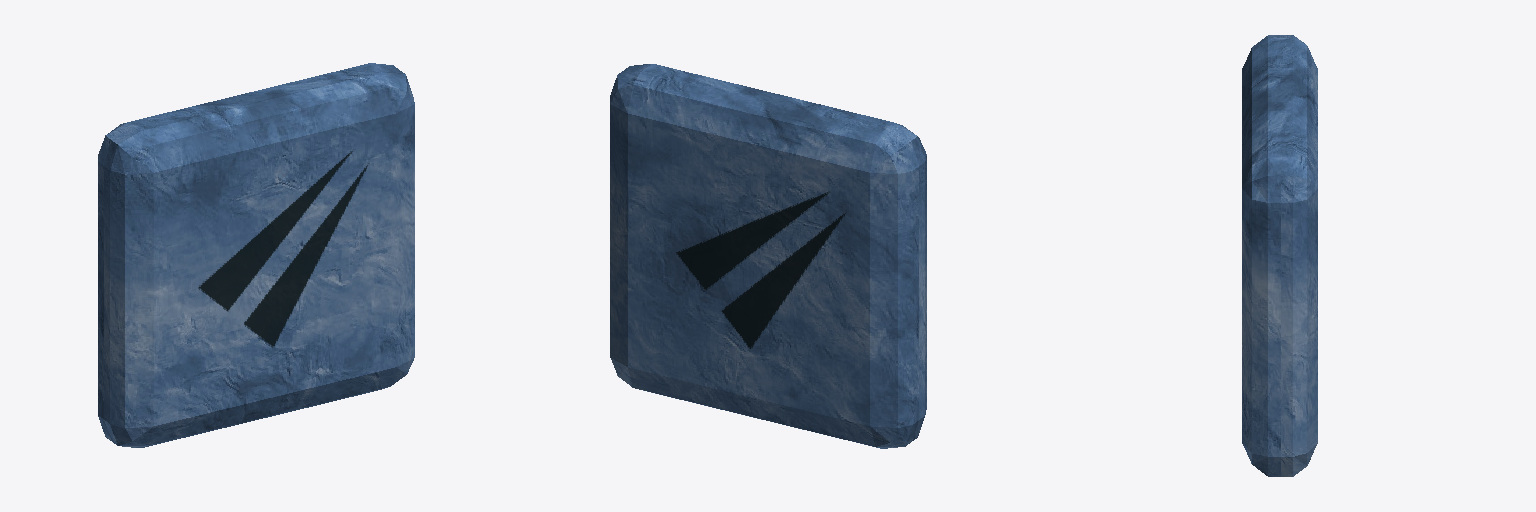
3 views of the same model, side by side, from view 1: azimuth 30°, elevation 25°; view 2: azimuth 150°, elevation 25°; view 3: azimuth 270°, elevation 25° (orthographic).
Visible parts, largest first — view 1: Cube; view 2: Cube; view 3: Cube.
Boxes of the visible parts, x1=… form: Cube: x1=98, y1=63, x2=414, y2=447; Cube: x1=610, y1=64, x2=926, y2=448; Cube: x1=1242, y1=35, x2=1317, y2=476.
Bounding box in the file's own units: 1 × 1 × 0.2182.
Materials: 1 (1 with a texture image).